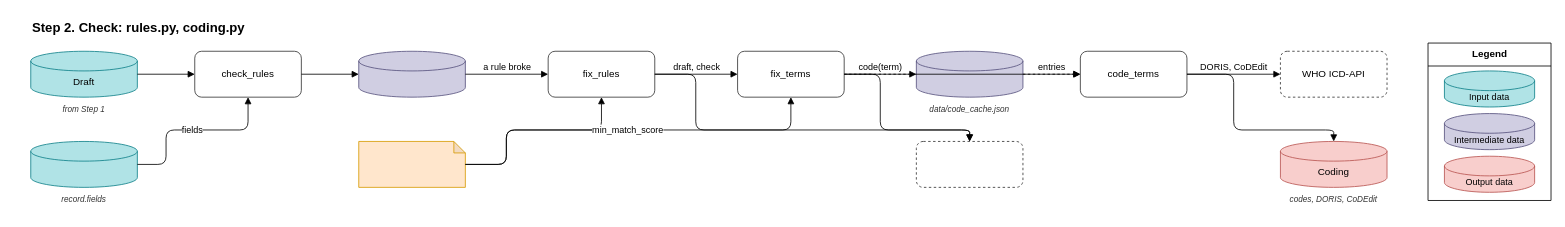
Some shapes in this 1565 by 227 pixel diagram are drawn without their labels. The centre of each missing label's shape, as x and y in pixels:
config/default.yaml: (411,164)
Model endpoint: (969,164)
Record notes: (83,164)
RuleCheck: (411,73)
Term cache: (969,73)
